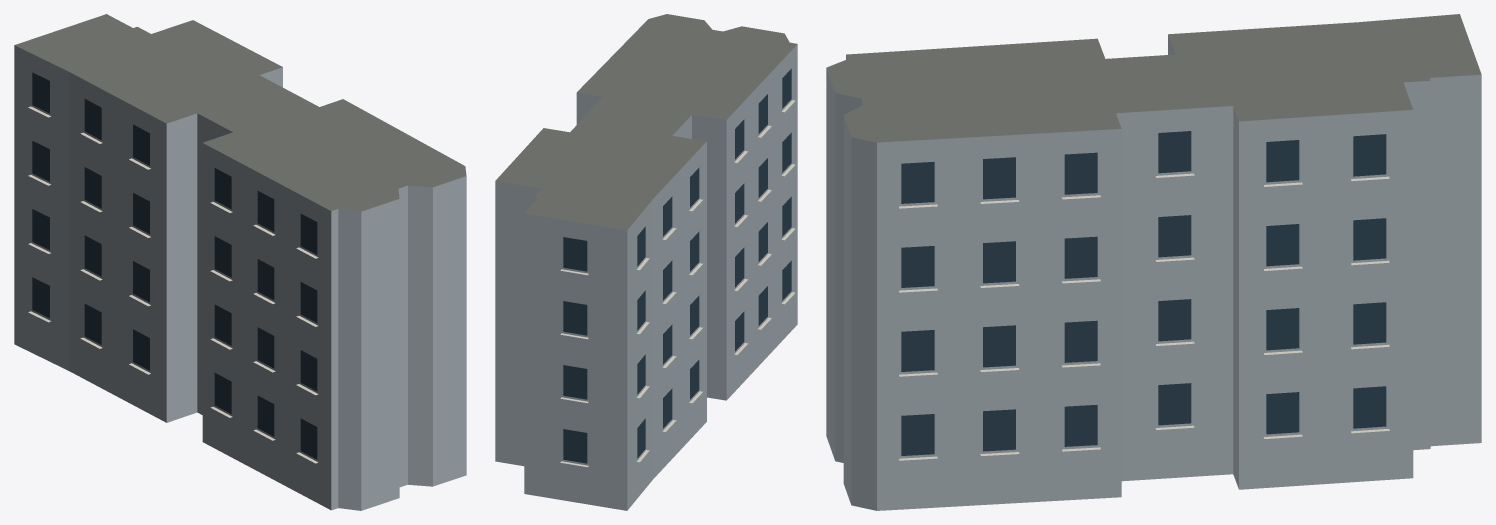
The picture shows the model from 3 angles, left to right: view 1: azimuth 30°, elevation 25°; view 2: azimuth 150°, elevation 25°; view 3: azimuth 270°, elevation 25°; orthographic projection. The views are drawn at different scales.
Parts seen in each view (by area): view 1: Footprint 0, Inferred window bays, Window sills; view 2: Footprint 0, Inferred window bays, Window sills; view 3: Footprint 0, Inferred window bays, Window sills.
Part boxes in pixels (left/top/right/bottom): Footprint 0: left=14, top=14, right=466, bottom=510; Inferred window bays: left=32, top=72, right=317, bottom=459; Window sills: left=28, top=106, right=318, bottom=463; Footprint 0: left=495, top=14, right=797, bottom=510; Inferred window bays: left=563, top=68, right=791, bottom=463; Window sills: left=560, top=100, right=795, bottom=467; Footprint 0: left=826, top=14, right=1481, bottom=510; Inferred window bays: left=901, top=131, right=1386, bottom=455; Window sills: left=899, top=173, right=1389, bottom=460.
Bounding box in the file's own units: 11.42 × 15.08 × 24.31.
